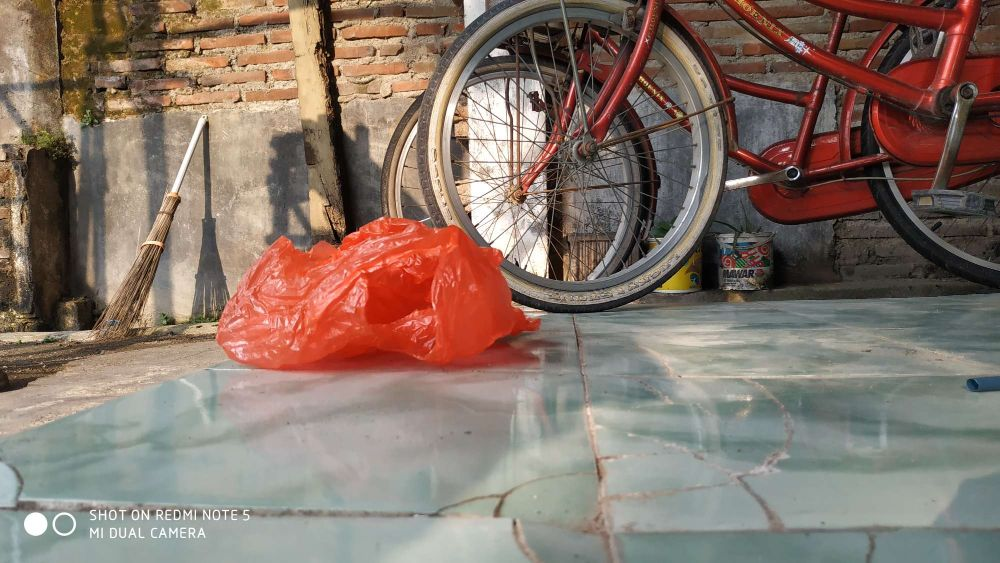plastik: (232, 216, 533, 372)
